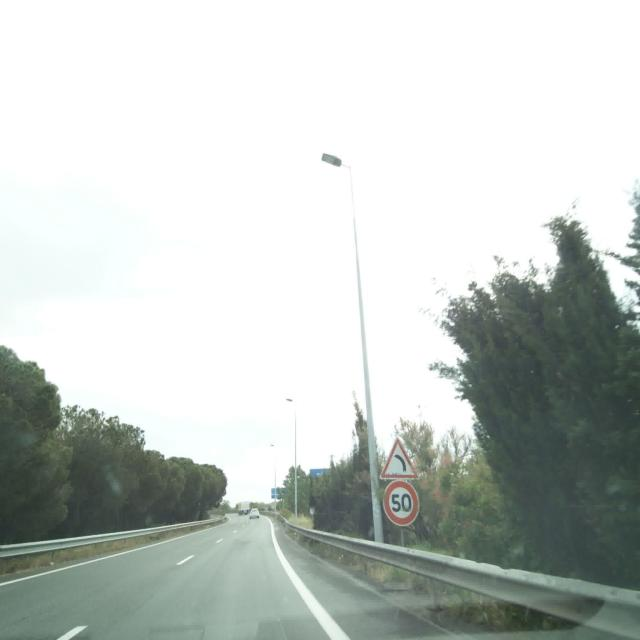car: (249, 507, 260, 519)
